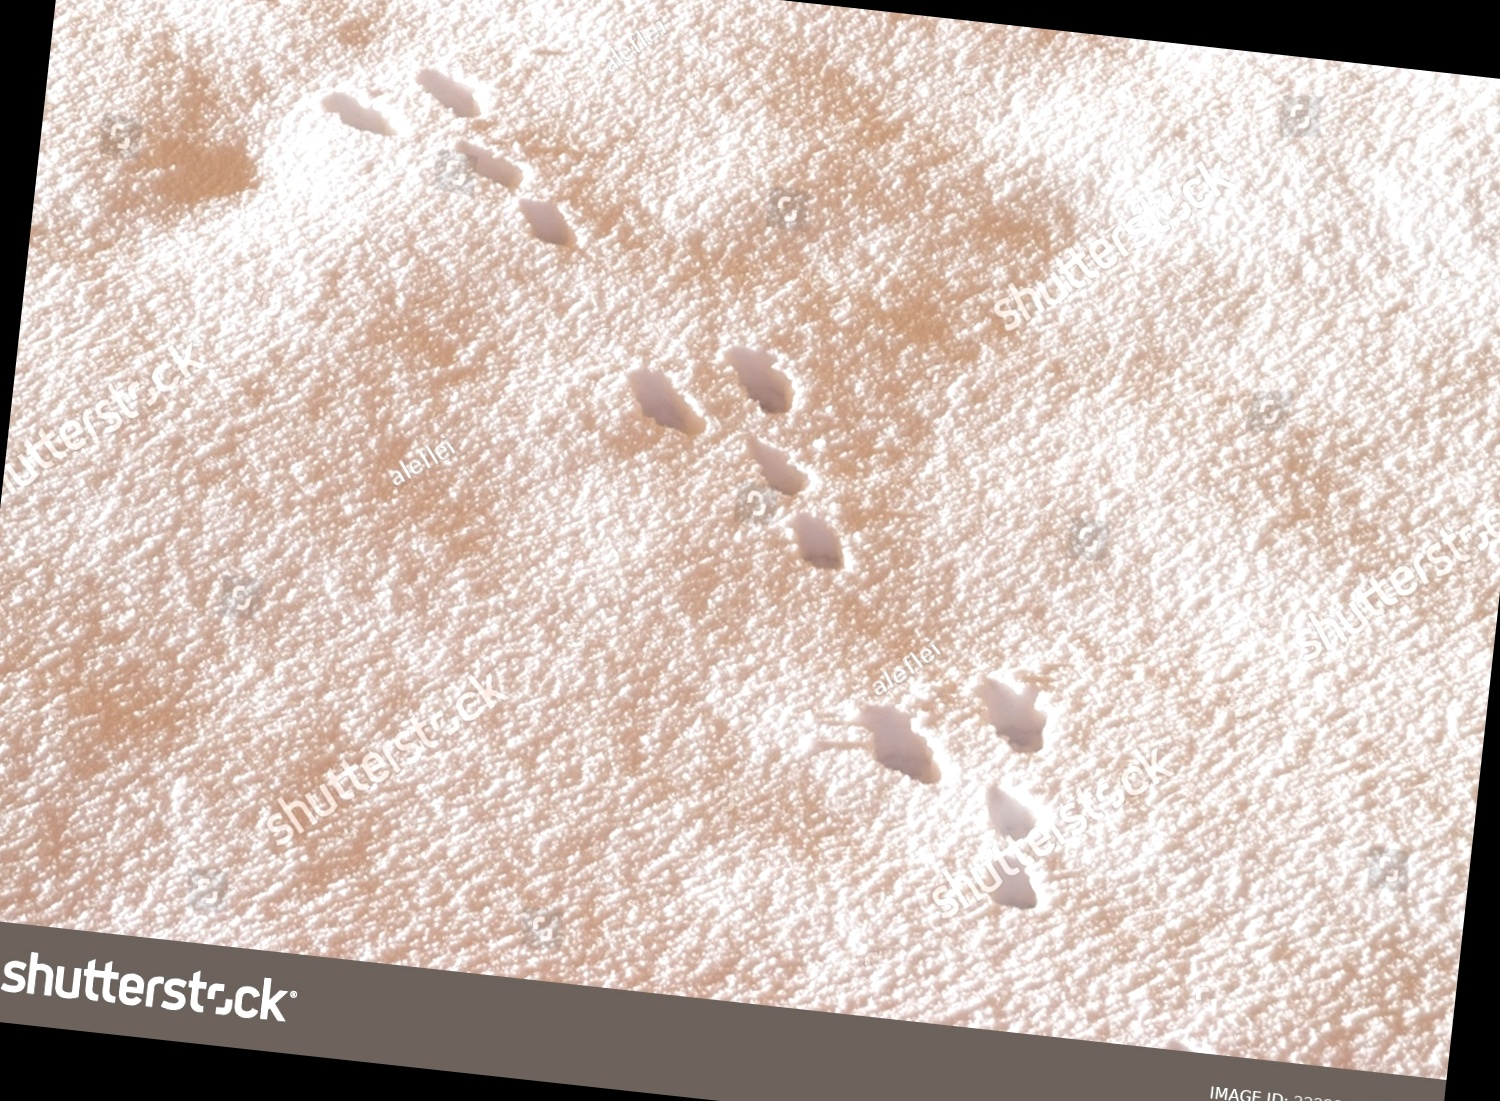lapin: (30, 1, 318, 66), (852, 671, 975, 802), (977, 628, 1087, 726), (604, 368, 702, 461), (982, 820, 1095, 896), (723, 421, 828, 500), (995, 740, 1092, 816), (260, 125, 353, 196), (777, 501, 857, 576), (367, 89, 455, 156), (703, 343, 783, 411), (477, 213, 558, 280), (412, 165, 495, 216)
